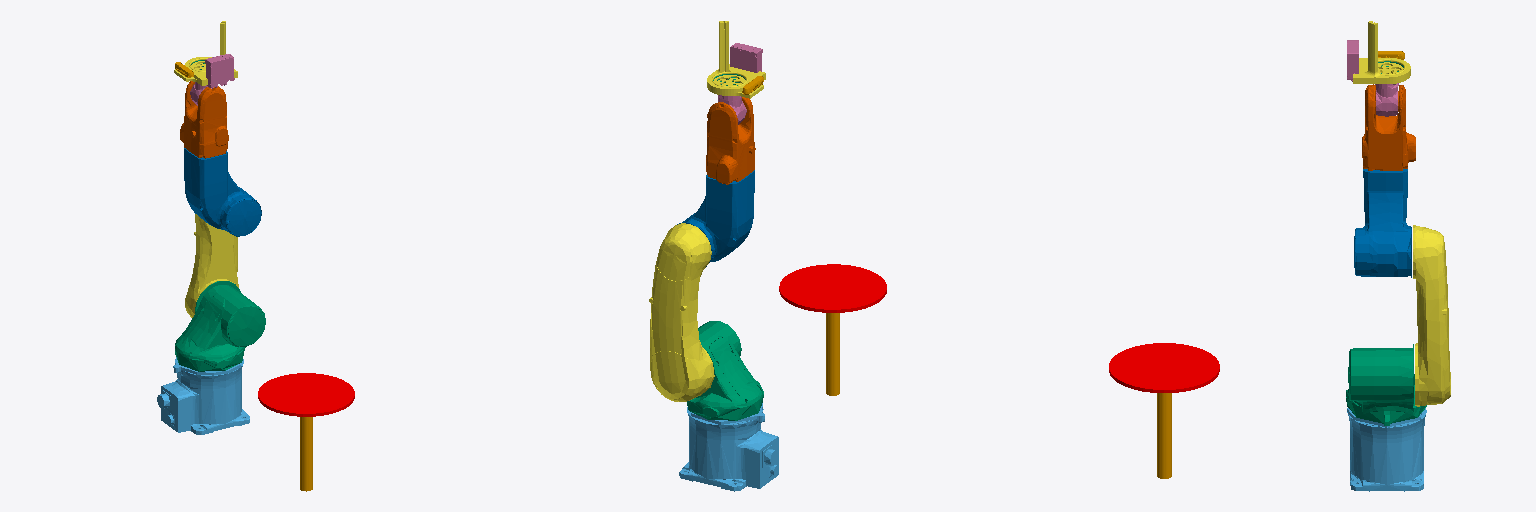
--- Facts derived from the render (not from the file) ---
Views: 3 orthographic renders of the robot side by side, from view 1: azimuth 30°, elevation 25°; view 2: azimuth 150°, elevation 25°; view 3: azimuth 270°, elevation 25°.
Robot: add_post_pro_robot — 25 links, 24 joints (7 revolute, 1 continuous, 1 prismatic, 15 fixed); root link world; default pose: all joints at 0.
Visible links, largest first — view 1: J1, base_link, J3, turntable_plate, J2, J4, turntable_base, EEF_scancontrol, EEF_sensor_holder; view 2: J2, base_link, J1, turntable_plate, J3, J4, EEF_sensor_holder, turntable_base, EEF_scancontrol; view 3: J2, J3, base_link, J1, turntable_plate, J4, EEF_sensor_holder, turntable_base, J5.
Boxes of the visible links, <box> form: J1: <box>175,281,265,371</box>; base_link: <box>157,357,249,434</box>; J3: <box>184,148,261,236</box>; turntable_plate: <box>258,373,354,416</box>; J2: <box>185,214,238,317</box>; J4: <box>180,81,228,158</box>; turntable_base: <box>300,417,312,491</box>; EEF_scancontrol: <box>205,54,234,88</box>; EEF_sensor_holder: <box>174,21,237,85</box>; J2: <box>649,223,714,401</box>; base_link: <box>679,403,778,491</box>; J1: <box>687,321,763,420</box>; turntable_plate: <box>779,264,886,312</box>; J3: <box>677,170,754,266</box>; J4: <box>706,97,755,184</box>; EEF_sensor_holder: <box>707,21,765,98</box>; turntable_base: <box>826,313,839,395</box>; EEF_scancontrol: <box>730,43,762,72</box>; J2: <box>1413,225,1450,406</box>; J3: <box>1354,169,1411,277</box>; base_link: <box>1347,408,1426,491</box>; J1: <box>1346,344,1426,425</box>; turntable_plate: <box>1109,343,1219,392</box>; J4: <box>1362,84,1415,170</box>; EEF_sensor_holder: <box>1353,21,1410,83</box>; turntable_base: <box>1157,393,1171,478</box>; J5: <box>1375,83,1398,116</box>.
Bounding box of the posed robot: 0.3298 × 0.9227 × 1.36 m (x, y, z).
11 mesh visuals loaded from 13 distinct referenced files (11 binary STL); not drawn: 2 (reference not matched to a file when rendering).

robot.urdf — add_post_pro_robot:
<?xml version="1.0" ?>
<!-- =================================================================================== -->
<!-- |    This document was autogenerated by xacro from [local-path]/zzzzz/python/compiled/coobra2050/test/catkin_ws_dep/src/add_post_pro2/add_post_pro_simulation/urdf/add_post_pro_robot.urdf.xacro | -->
<!-- |    EDITING THIS FILE BY HAND IS NOT RECOMMENDED                                 | -->
<!-- =================================================================================== -->
<!-- =================================================================================== -->
<!-- |    This document was autogenerated by xacro from [local-path]/Projects/AddPostPro/src/add_post_pro_robot/urdf/multisensor_robot.urdf.xacro | -->
<!-- |    EDITING THIS FILE BY HAND IS NOT RECOMMENDED                                 | -->
<!-- =================================================================================== -->
<robot name="add_post_pro_robot">
    <transmission name="trans_1">
        <type>transmission_interface/SimpleTransmission</type>
        <joint name="joint_1">
            <hardwareInterface>hardware_interface/PositionJointInterface</hardwareInterface>
        </joint>
        <actuator name="motor_1">
            <hardwareInterface>hardware_interface/PositionJointInterface</hardwareInterface>
            <mechanicalReduction>1</mechanicalReduction>
        </actuator>
    </transmission>
    <transmission name="trans_2">
        <type>transmission_interface/SimpleTransmission</type>
        <joint name="joint_2">
            <hardwareInterface>hardware_interface/PositionJointInterface</hardwareInterface>
        </joint>
        <actuator name="motor_2">
            <hardwareInterface>hardware_interface/PositionJointInterface</hardwareInterface>
            <mechanicalReduction>1</mechanicalReduction>
        </actuator>
    </transmission>
    <transmission name="trans_3">
        <type>transmission_interface/SimpleTransmission</type>
        <joint name="joint_3">
            <hardwareInterface>hardware_interface/PositionJointInterface</hardwareInterface>
        </joint>
        <actuator name="motor_3">
            <hardwareInterface>hardware_interface/PositionJointInterface</hardwareInterface>
            <mechanicalReduction>1</mechanicalReduction>
        </actuator>
    </transmission>
    <transmission name="trans_4">
        <type>transmission_interface/SimpleTransmission</type>
        <joint name="joint_4">
            <hardwareInterface>hardware_interface/PositionJointInterface</hardwareInterface>
        </joint>
        <actuator name="motor_4">
            <hardwareInterface>hardware_interface/PositionJointInterface</hardwareInterface>
            <mechanicalReduction>1</mechanicalReduction>
        </actuator>
    </transmission>
    <transmission name="trans_5">
        <type>transmission_interface/SimpleTransmission</type>
        <joint name="joint_5">
            <hardwareInterface>hardware_interface/PositionJointInterface</hardwareInterface>
        </joint>
        <actuator name="motor_5">
            <hardwareInterface>hardware_interface/PositionJointInterface</hardwareInterface>
            <mechanicalReduction>1</mechanicalReduction>
        </actuator>
    </transmission>
    <transmission name="trans_6">
        <type>transmission_interface/SimpleTransmission</type>
        <joint name="joint_6">
            <hardwareInterface>hardware_interface/PositionJointInterface</hardwareInterface>
        </joint>
        <actuator name="motor_6">
            <hardwareInterface>hardware_interface/PositionJointInterface</hardwareInterface>
            <mechanicalReduction>1</mechanicalReduction>
        </actuator>
    </transmission>
    <gazebo>
        <plugin filename="libgazebo_ros_control.so" name="gazebo_ros_control">
            <robotNamespace>/add_post_pro_robot</robotNamespace>
        </plugin>
    </gazebo>
    <link name="world" />
    <joint name="joint_w" type="fixed">
        <parent link="world" />
        <child link="base_link" />
        <origin xyz="0 0 0" />
    </joint>
    <link name="base_link">
        <visual>
            <origin rpy="0 0 0" xyz="0 0 0" />
            <geometry>
                <mesh filename="package://denso_robot_descriptions/vs6577_description/meshes/base_link.stl" scale="1 1 1" />
            </geometry>
        </visual>
        <collision>
            <origin rpy="0 0 0" xyz="0 0 0" />
            <geometry>
                <mesh filename="package://denso_robot_descriptions/vs6577_description/meshes/base_link.stl" scale="1 1 1" />
            </geometry>
        </collision>
        <inertial>
            <mass value="1" />
            <origin rpy="0.000000 0.000000 0.000000" xyz="0.000000 0.000000 0.000000" />
            <inertia ixx="1" ixy="0" ixz="0" iyy="1" iyz="0" izz="1" />
        </inertial>
    </link>
    <link name="J1">
        <visual>
            <origin rpy="0 0 0" xyz="0 0 0" />
            <geometry>
                <mesh filename="package://denso_robot_descriptions/vs6577_description/meshes/J1.stl" scale="1 1 1" />
            </geometry>
        </visual>
        <collision>
            <origin rpy="0 0 0" xyz="0 0 0" />
            <geometry>
                <mesh filename="package://denso_robot_descriptions/vs6577_description/meshes/J1.stl" scale="1 1 1" />
            </geometry>
        </collision>
        <inertial>
            <mass value="1" />
            <origin rpy="0.000000 0.000000 0.000000" xyz="0.000000 0.000000 0.000000" />
            <inertia ixx="1" ixy="0" ixz="0" iyy="1" iyz="0" izz="1" />
        </inertial>
    </link>
    <link name="J2">
        <visual>
            <origin rpy="0 0 0" xyz="0 0 0" />
            <geometry>
                <mesh filename="package://denso_robot_descriptions/vs6577_description/meshes/J2.stl" scale="1 1 1" />
            </geometry>
        </visual>
        <collision>
            <origin rpy="0 0 0" xyz="0 0 0" />
            <geometry>
                <mesh filename="package://denso_robot_descriptions/vs6577_description/meshes/J2.stl" scale="1 1 1" />
            </geometry>
        </collision>
        <inertial>
            <mass value="1" />
            <origin rpy="0.000000 0.000000 0.000000" xyz="0.000000 0.000000 0.000000" />
            <inertia ixx="1" ixy="0" ixz="0" iyy="1" iyz="0" izz="1" />
        </inertial>
    </link>
    <link name="J3">
        <visual>
            <origin rpy="0 0 0" xyz="0 0 0" />
            <geometry>
                <mesh filename="package://denso_robot_descriptions/vs6577_description/meshes/J3.stl" scale="1 1 1" />
            </geometry>
        </visual>
        <collision>
            <origin rpy="0 0 0" xyz="0 0 0" />
            <geometry>
                <mesh filename="package://denso_robot_descriptions/vs6577_description/meshes/J3.stl" scale="1 1 1" />
            </geometry>
        </collision>
        <inertial>
            <mass value="1" />
            <origin rpy="0.000000 0.000000 0.000000" xyz="0.000000 0.000000 0.000000" />
            <inertia ixx="1" ixy="0" ixz="0" iyy="1" iyz="0" izz="1" />
        </inertial>
    </link>
    <link name="J4">
        <visual>
            <origin rpy="0 0 0" xyz="0 0 0" />
            <geometry>
                <mesh filename="package://denso_robot_descriptions/vs6577_description/meshes/J4.stl" scale="1 1 1" />
            </geometry>
        </visual>
        <collision>
            <origin rpy="0 0 0" xyz="0 0 0" />
            <geometry>
                <mesh filename="package://denso_robot_descriptions/vs6577_description/meshes/J4.stl" scale="1 1 1" />
            </geometry>
        </collision>
        <inertial>
            <mass value="1" />
            <origin rpy="0.000000 0.000000 0.000000" xyz="0.000000 0.000000 0.000000" />
            <inertia ixx="1" ixy="0" ixz="0" iyy="1" iyz="0" izz="1" />
        </inertial>
    </link>
    <link name="J5">
        <visual>
            <origin rpy="0 0 0" xyz="0 0 0" />
            <geometry>
                <mesh filename="package://denso_robot_descriptions/vs6577_description/meshes/J5.stl" scale="1 1 1" />
            </geometry>
        </visual>
        <collision>
            <origin rpy="0 0 0" xyz="0 0 0" />
            <geometry>
                <mesh filename="package://denso_robot_descriptions/vs6577_description/meshes/J5.stl" scale="1 1 1" />
            </geometry>
        </collision>
        <inertial>
            <mass value="1" />
            <origin rpy="0.000000 0.000000 0.000000" xyz="0.000000 0.000000 0.000000" />
            <inertia ixx="1" ixy="0" ixz="0" iyy="1" iyz="0" izz="1" />
        </inertial>
    </link>
    <link name="J6">
        <visual>
            <origin rpy="0 0 0" xyz="0 0 0" />
            <geometry>
                <mesh filename="package://denso_robot_descriptions/vs6577_description/meshes/J6.stl" scale="1 1 1" />
            </geometry>
        </visual>
        <collision>
            <origin rpy="0 0 0" xyz="0 0 0" />
            <geometry>
                <mesh filename="package://denso_robot_descriptions/vs6577_description/meshes/J6.stl" scale="1 1 1" />
            </geometry>
        </collision>
        <inertial>
            <mass value="1" />
            <origin rpy="0.000000 0.000000 0.000000" xyz="0.000000 0.000000 0.000000" />
            <inertia ixx="1" ixy="0" ixz="0" iyy="1" iyz="0" izz="1" />
        </inertial>
    </link>
    <gazebo reference="base_link">
        <material>Gazebo/CoM</material>
    </gazebo>
    <gazebo reference="J1">
        <material>Gazebo/Gray</material>
    </gazebo>
    <gazebo reference="J2">
        <material>Gazebo/Gray</material>
    </gazebo>
    <gazebo reference="J3">
        <material>Gazebo/Gray</material>
    </gazebo>
    <gazebo reference="J4">
        <material>Gazebo/Gray</material>
    </gazebo>
    <gazebo reference="J5">
        <material>Gazebo/Gray</material>
    </gazebo>
    <gazebo reference="J6">
        <material>Gazebo/Gray</material>
    </gazebo>
    <gazebo reference="EEF_tool_mount">
        <material>Gazebo/CoM</material>
    </gazebo>
    <gazebo>
        <gravity>False</gravity>
    </gazebo>
    <joint name="joint_1" type="revolute">
        <parent link="base_link" />
        <child link="J1" />
        <origin rpy="0.000000 0.000000 0.000000" xyz="0.000000 0.000000 0.000000" />
        <axis xyz="-0.000000 -0.000000 1.000000" />
        <limit effort="100" lower="-2.96706" upper="2.96706" velocity="1" />
        <dynamics damping="0" friction="0" />
    </joint>
    <joint name="joint_2" type="revolute">
        <parent link="J1" />
        <child link="J2" />
        <origin rpy="0.000000 0.000000 0.000000" xyz="0.075000 0.000000 0.335000" />
        <axis xyz="-0.000000 1.000000 -0.000000" />
        <limit effort="100" lower="-1.745329" upper="2.356194" velocity="1" />
        <dynamics damping="0" friction="0" />
    </joint>
    <joint name="joint_3" type="revolute">
        <parent link="J2" />
        <child link="J3" />
        <origin rpy="0.000000 0.000000 0.000000" xyz="0.000000 0.000000 0.365000" />
        <axis xyz="-0.000000 1.000000 -0.000000" />
        <limit effort="100" lower="-2.076942" upper="2.949606" velocity="1" />
        <dynamics damping="0" friction="0" />
    </joint>
    <joint name="joint_4" type="revolute">
        <parent link="J3" />
        <child link="J4" />
        <origin rpy="0.000000 0.000000 0.000000" xyz="-0.090000 0.000000 -0.700000" />
        <axis xyz="-0.000000 -0.000000 1.000000" />
        <limit effort="100" lower="-3.316126" upper="3.316126" velocity="1" />
        <dynamics damping="0" friction="0" />
    </joint>
    <joint name="joint_5" type="revolute">
        <parent link="J4" />
        <child link="J5" />
        <origin rpy="0.000000 0.000000 0.000000" xyz="0.000000 0.000000 1.105000" />
        <axis xyz="-0.000000 1.000000 -0.000000" />
        <limit effort="100" lower="-2.094395" upper="2.094395" velocity="1" />
        <dynamics damping="0" friction="0" />
    </joint>
    <joint name="joint_6" type="revolute">
        <parent link="J5" />
        <child link="J6" />
        <origin rpy="0.000000 0.000000 0.000000" xyz="0.000000 0.000000 0.080000" />
        <axis xyz="-0.000000 -0.000000 1.000000" />
        <limit effort="100" lower="-6.283185" upper="6.283185" velocity="1" />
        <dynamics damping="0" friction="0" />
    </joint>
    <link name="turntable_base">
        <visual>
            <origin rpy="0 0 0" xyz="0 0 0" />
            <geometry>
                <cylinder length=".32" radius=".02" />
            </geometry>
        </visual>
        <collision>
            <origin rpy="0 0 0" xyz="0 0 0" />
            <geometry>
                <cylinder length=".32" radius=".02" />
            </geometry>
        </collision>
        <inertial>
            <origin rpy="0 0 0" xyz="0 0 0" />
            <mass value="1" />
            <inertia ixx="100" ixy="0" ixz="0" iyy="100" iyz="0" izz="100" />
        </inertial>
    </link>
    <link name="turntable_plate">
        <visual>
            <origin rpy="0 0 0" xyz="0 0 0" />
            <geometry>
                <cylinder length=".01" radius=".15" />
            </geometry>
            <material name="Red">
                <color rgba="1.0 0 0 1.0" />
            </material>
        </visual>
        <collision>
            <origin rpy="0 0 0" xyz="0 0 0" />
            <geometry>
                <cylinder length=".01" radius=".15" />
            </geometry>
        </collision>
        <inertial>
            <origin rpy="0 0 0" xyz="0 0 0" />
            <mass value="1" />
            <inertia ixx="100" ixy="0" ixz="0" iyy="100" iyz="0" izz="100" />
        </inertial>
    </link>
    <joint name="turntable_joint" type="fixed">
        <!-- <parent link="${parent}"/> -->
        <parent link="world" />
        <child link="turntable_base" />
        <origin rpy="0 0 0" xyz="0 -.6 0.16" />
        <!-- <origin rpy="0 0 0" xyz="0 0 0" /> -->
    </joint>
    <joint name="turntable_revolve_joint" type="continuous">
        <parent link="turntable_base" />
        <child link="turntable_plate" />
        <origin rpy="0.000000 0.000000 0.000000" xyz="0.000000 0.000000 .16" />
        <!-- <limit effort="1000.0" lower="-6.28" upper="6.28" velocity="0.5"/> -->
        <limit effort="1000.0" velocity="0.5" />
        <axis xyz="0 0 1" />
    </joint>
    <transmission name="trans_turntable_revolve_joint">
        <type>transmission_interface/SimpleTransmission</type>
        <joint name="turntable_revolve_joint">
            <hardwareInterface>hardware_interface/PositionJointInterface</hardwareInterface>
        </joint>
        <actuator name="turntable_revolve_joint_motor">
            <hardwareInterface>hardware_interface/PositionJointInterface</hardwareInterface>
            <mechanicalReduction>1</mechanicalReduction>
        </actuator>
    </transmission>
    <link name="EEF_tool_mount">
        <visual>
            <origin rpy="0.000000 0 0" xyz="0 0 0" />
            <geometry>
                <mesh filename="package://add_post_pro_robot/meshes/tool_mount.stl" scale=".001 .001 .001" />
            </geometry>
        </visual>
        <collision>
            <origin rpy="0.000000 0 0" xyz="0 0 0" />
            <geometry>
                <mesh filename="package://add_post_pro_robot/meshes/tool_mount.stl" scale=".001 .001 .001" />
            </geometry>
        </collision>
        <inertial>
            <mass value="1" />
            <origin rpy="0.000000 0.000000 0.000000" xyz="0.000000 0.000000 0.000000" />
            <inertia ixx="1" ixy="0" ixz="0" iyy="1" iyz="0" izz="1" />
        </inertial>
    </link>
    <link name="EEF_sensor_holder">
        <visual>
            <origin rpy="0 0 0" xyz="0 0 0" />
            <geometry>
                <mesh filename="package://add_post_pro_robot/meshes/multisensor_holder_origin.stl" scale=".001 .001 .001" />
            </geometry>
        </visual>
        <collision>
            <origin rpy="0 0 0" xyz="0 0 0" />
            <geometry>
                <mesh filename="package://add_post_pro_robot/meshes/multisensor_holder_origin.stl" scale=".001 .001 .001" />
            </geometry>
        </collision>
        <inertial>
            <mass value="1" />
            <origin rpy="0.000000 0.000000 0.000000" xyz="0.000000 0.000000 0.000000" />
            <inertia ixx="1" ixy="0" ixz="0" iyy="1" iyz="0" izz="1" />
        </inertial>
    </link>
    <link name="EEF_scanner" />
    <link name="EEF_depstech_camera" />
    <joint name="end_effector_mount" type="fixed">
        <parent link="J6" />
        <child link="EEF_tool_mount" />
        <origin rpy="0.000000 0.000000 0.000000" xyz="0.000000 0.000000 0.000000" />
    </joint>
    <joint name="EEF_wire_joint" type="revolute">
        <origin rpy="3.14 0 0" xyz="0.0 0 0.18" />
        <parent link="EEF_tool_mount" />
        <child link="gripper_link" />
        <axis xyz="0 0 1" />
        <limit effort="100" lower="-2.96706" upper="2.96706" velocity="3.92699081698724" />
        <dynamics damping="0" friction="0" />
    </joint>
    <link name="gripper_link">
        <inertial>
            <origin rpy="0 0 0" xyz="0.00141082792436611 0.0723032366847936 -8.43889581212869E-06" />
            <mass value="0.0799939176940473" />
            <inertia ixx="2.76844464280798E-05" ixy="-9.12624570478781E-07" ixz="-3.54399098618829E-09" iyy="2.41142132607001E-05" iyz="-1.50768187987084E-08" izz="2.86263235549508E-05" />
        </inertial>
        <visual>
            <origin rpy="0 0 0" xyz="0 0 0" />
            <geometry>
                <mesh filename="package://denso_robot_descriptions/vs6577_description/meshes/gripper_link.STL" />
            </geometry>
            <material name="">
                <color rgba="1 1 1 1" />
            </material>
        </visual>
        <collision>
            <origin rpy="0 0 0" xyz="0 0 0" />
            <geometry>
                <mesh filename="package://denso_robot_descriptions/vs6577_description/meshes/gripper_link.STL" />
            </geometry>
        </collision>
    </link>
    <link name="wire_link">
        <inertial>
            <origin rpy="0 0 0" xyz="-3.64651320699625E-09 0.145245333065823 4.7191528418343E-10" />
            <mass value="0.0460124601960045" />
            <inertia ixx="1.20903697059879E-05" ixy="3.35111235215526E-14" ixz="6.77959108035406E-13" iyy="2.20549410957124E-05" iyz="2.72380348556016E-14" izz="1.20855456355529E-05" />
        </inertial>
        <visual>
            <origin rpy="0 0 0" xyz="0 0 0" />
            <geometry>
                <mesh filename="package://denso_robot_descriptions/vs6577_description/meshes/wire_link_modified.stl" />
            </geometry>
            <material name="">
                <color rgba="0.792156862745098 0.819607843137255 0.933333333333333 1" />
            </material>
        </visual>
        <collision>
            <origin rpy="0 0 0" xyz="0 0 0" />
            <geometry>
                <mesh filename="package://denso_robot_descriptions/vs6577_description/meshes/wire_link_modified.stl" />
            </geometry>
        </collision>
    </link>
    <joint name="wire_joint" type="prismatic">
        <origin rpy="1.5707963267949 0 0" xyz="0 0 0" />
        <parent link="gripper_link" />
        <child link="wire_link" />
        <axis xyz="0 1 0" />
        <limit effort="1000.0" lower="-0.05" upper="0.0" velocity="0.5" />
    </joint>
    <joint name="end_effector_magnet" type="fixed">
        <parent link="J6" />
        <child link="EEF_sensor_holder" />
        <origin rpy="0.000000 0.000000 3.14159265359" xyz="0.000000 0.000000 0.000000" />
    </joint>
    <joint name="end_effector_scanner_holder" type="fixed">
        <parent link="EEF_sensor_holder" />
        <child link="EEF_scanner" />
        <origin rpy="0.000000 3.14159265359 1.57079632679" xyz="0.000000 0.091600 0.005500" />
    </joint>
    <joint name="end_effector_depstech_holder" type="fixed">
        <parent link="EEF_sensor_holder" />
        <child link="EEF_depstech_camera" />
        <origin rpy="0.392699081699 -0.785398163397 -0.795339912301" xyz="-0.042000 0.0353000 0.19000" />
    </joint>
    <!-- Camera link -->
    <link name="D415_camera">
        <visual>
            <origin rpy="1.57079632679 0 1.57079632679" xyz="0 0 0" />
            <geometry>
                <mesh filename="package://realsense_cam/meshes/simplified_d415.stl" />
            </geometry>
        </visual>
        <collision>
            <geometry>
                <box size="0.0078 0.130 0.0192" />
            </geometry>
        </collision>
        <inertial>
            <mass value="0.0615752" />
            <origin rpy="0 0 0" xyz="0 0 0" />
            <inertia ixx="9.108e-05" ixy="0" ixz="0" iyy="2.51e-06" iyz="0" izz="8.931e-05" />
        </inertial>
    </link>
    <!-- Connect camera to parent frame-->
    <joint name="realsense_joint" type="fixed">
        <parent link="EEF_sensor_holder" />
        <child link="D415_camera" />
        <origin rpy="0 -1.57079632679 3.14159265359" xyz=".075 0.001 .031" />
    </joint>
    <!-- Virtual links representing the cameras positons and orientations-->
    <link name="camera_for_ray_query" />
    <link name="D415_color_optical_frame" />
    <link name="D415_depth_optical_frame" />
    <link name="D415_ired1_optical_frame" />
    <link name="D415_ired2_optical_frame" />
    <!-- Joints positioning the virtual links with respect to the camera main link-->
    <joint name="ray_query_joint" type="fixed">
        <parent link="D415_camera" />
        <child link="camera_for_ray_query" />
        <!-- <origin xyz="0 -0.046 0.004" rpy="0 0 0"/> -->
        <!-- The default position is change since in Rviz the cloud depth axis is Z not X-->
        <origin rpy="1.57079632679 3.14159265359 1.57079632679" xyz="0 0 0 " />
    </joint>
    <joint name="color_joint" type="fixed">
        <parent link="D415_camera" />
        <child link="D415_color_optical_frame" />
        <!-- <origin xyz="0 -0.046 0.004" rpy="0 0 0"/> -->
        <!-- The default position is change since in Rviz the cloud depth axis is Z not X-->
        <origin rpy="1.57079632679 3.14159265359 1.57079632679" xyz="0 0 0 " />
    </joint>
    <joint name="depth_joint" type="fixed">
        <parent link="D415_camera" />
        <child link="D415_depth_optical_frame" />
        <origin rpy="0 0 0" xyz="0 0 0" />
    </joint>
    <joint name="ired1_joint" type="fixed">
        <parent link="D415_camera" />
        <child link="D415_ired1_optical_frame" />
        <origin rpy="0 0 0" xyz="0 0 0" />
    </joint>
    <joint name="ired2_joint" type="fixed">
        <parent link="D415_camera" />
        <child link="D415_ired2_optical_frame" />
        <origin rpy="0 0 0" xyz="0 -0.055 0" />
    </joint>
    <!-- **********************************************************-->
    <!-- GAZEBO DEFINITIONS ***************************************-->
    <!-- Load plugin to the model ("robot" in urdf format)-->
    <gazebo>
        <plugin filename="librealsense_gazebo_plugin.so" name="D415" />
        <!--<pose frame="">0 0 0.015 0 0 0</pose>-->
    </gazebo>
    <!-- Load parameters to model's main link-->
    <gazebo reference="D415_camera">
        <self_collide>0</self_collide>
        <enable_wind>0</enable_wind>
        <kinematic>0</kinematic>
        <gravity>1</gravity>
        <!--<mu>1</mu>-->
        <mu2>1</mu2>
        <fdir1>0 0 0</fdir1>
        <!--<slip1>0</slip1>
        <slip2>0</slip2>-->
        <kp>1e+13</kp>
        <kd>1</kd>
        <!--<max_vel>0.01</max_vel>
        <min_depth>0</min_depth>-->
        <sensor name="camera_for_ray_query" type="camera">
            <frameName>camera_for_ray_query</frameName>
            <pose frame="">0 0 0 0 0 0</pose>
            <camera name="D415_camera">
                <horizontal_fov>1.211259</horizontal_fov>
                <image>
                    <width>1280</width>
                    <height>720</height>
                    <format>R8G8B8</format>
                </image>
                <clip>
                    <near>0.1</near>
                    <far>100</far>
                </clip>
                <noise>
                    <type>gaussian</type>
                    <mean>0.0</mean>
                    <stddev>0.007</stddev>
                </noise>
            </camera>
            <plugin filename="libRayQuery.so" name="ray_query" />
            <always_on>1</always_on>
            <update_rate>30</update_rate>
            <visualize>1</visualize>
        </sensor>
        <sensor name="D415_color_optical_frame" type="camera">
            <frameName>D415_color_optical_frame</frameName>
            <pose frame="">0 0 0 0 0 0</pose>
            <camera name="D415_camera">
                <horizontal_fov>1.211259</horizontal_fov>
                <image>
                    <width>1280</width>
                    <height>720</height>
                    <format>RGB_INT8</format>
                </image>
                <clip>
                    <near>0.1</near>
                    <far>100</far>
                </clip>
                <noise>
                    <type>gaussian</type>
                    <mean>0.0</mean>
                    <stddev>0.007</stddev>
                </noise>
            </camera>
            <always_on>1</always_on>
            <update_rate>60</update_rate>
            <visualize>1</visualize>
        </sensor>
        <sensor name="D415_ired1_optical_frame" type="camera">
            <frameName>D415_ired1_optical_frame</frameName>
            <pose frame="">0 0 0 0 0 0</pose>
            <camera name="D415_camera">
                <horizontal_fov>1.047</horizontal_fov>
                <image>
                    <width>1280</width>
                    <height>720</height>
                    <format>L_INT8</format>
                </image>
                <clip>
                    <near>0.1</near>
                    <far>100</far>
                </clip>
                <noise>
                    <type>gaussian</type>
                    <mean>0.0</mean>
                    <stddev>0.05</stddev>
                </noise>
            </camera>
            <always_on>1</always_on>
            <update_rate>60</update_rate>
            <visualize>0</visualize>
        </sensor>
        <sensor name="D415_ired2_optical_frame" type="camera">
            <frameName>D415_ired2_optical_frame</frameName>
            <pose frame="">0 -0.055 0 0 0</pose>
            <camera name="D415_camera">
                <horizontal_fov>1.047</horizontal_fov>
                <image>
                    <width>1280</width>
                    <height>720</height>
                    <format>L_INT8</format>
                </image>
                <clip>
                    <near>0.1</near>
                    <far>100</far>
                </clip>
                <noise>
                    <type>gaussian</type>
                    <mean>0.0</mean>
                    <stddev>0.05</stddev>
                </noise>
            </camera>
            <always_on>1</always_on>
            <update_rate>60</update_rate>
            <visualize>0</visualize>
        </sensor>
        <sensor name="D415_depth_optical_frame" type="depth">
            <pose frame="">0 0 0 0 0 0</pose>
            <camera name="D415_camera">
                <frameName>D415_depth_optical_frame</frameName>
                <horizontal_fov>1.13446</horizontal_fov>
                <image>
                    <width>1280</width>
                    <height>720</height>
                </image>
                <clip>
                    <near>0.1</near>
                    <far>100</far>
                </clip>
                <noise>
                    <type>gaussian</type>
                    <mean>0.0</mean>
                    <stddev>0.100</stddev>
                </noise>
            </camera>
            <always_on>1</always_on>
            <update_rate>60</update_rate>
            <visualize>0</visualize>
        </sensor>
    </gazebo>
    <!-- DONE -->
    <!-- Scanner link -->
    <link name="EEF_scancontrol">
        <visual>
            <origin rpy="0 0 0" xyz="0 0 0" />
            <geometry>
                <mesh filename="package://add_post_pro_robot/meshes/scancontrol2900.stl" scale=".001 .001 .001" />
            </geometry>
        </visual>
        <collision>
            <origin rpy="0 0 0" xyz="0 0 0" />
            <geometry>
                <mesh filename="package://add_post_pro_robot/meshes/scancontrol2900_collision.stl" scale=".001 .001 .001" />
            </geometry>
        </collision>
        <inertial>
            <mass value="1" />
            <origin rpy="0.000000 0.000000 0.000000" xyz="0.000000 0.000000 0.000000" />
            <inertia ixx="1" ixy="0" ixz="0" iyy="1" iyz="0" izz="1" />
        </inertial>
    </link>
    <link name="scancontrol2900-50_laser" />
    <joint name="end_effector_scanner" type="fixed">
        <parent link="EEF_scanner" />
        <child link="EEF_scancontrol" />
        <origin rpy="0.000000 0.000000 0.000000" xyz="0.000000 0.000000 0.000000" />
    </joint>
    <joint name="laser_joint" type="fixed">
        <parent link="EEF_scancontrol" />
        <child link="scancontrol2900-50_laser" />
        <origin rpy="0 1.57079632679 -1.57079632679" xyz="0 -0.0324522 -.0761366" />
    </joint>
    <!-- <origin xyz="0 -0.0324522 -.0761366" rpy="${M_PI} ${M_PI/2} ${M_PI/2}"/> -->
    <gazebo reference="scancontrol2900-50_laser">
        <sensor name="scancontrol" type="gpu_ray">
            <pose>0 0 0 0 0 0</pose>
            <visualize>true</visualize>
            <update_rate>40</update_rate>
            <ray>
                <scan>
                    <horizontal>
                        <samples>1024</samples>
                        <resolution>1</resolution>
                        <min_angle>-0.392699081699</min_angle>
                        <max_angle>0.392699081699</max_angle>
                    </horizontal>
                </scan>
                <range>
                    <min>0.1</min>
                    <max>0.500</max>
                    <resolution>0.01</resolution>
                </range>
            </ray>
            <plugin filename="libgazebo_ros_gpu_laser.so" name="scancontrol_laser">
                <topicName>/arm/laser_scan</topicName>
                <frameName>scancontrol2900-50_laser</frameName>
            </plugin>
        </sensor>
    </gazebo>
    <link name="depstech_camera_link">
        <collision>
            <origin rpy="0 0 0" xyz="0 0 0" />
            <geometry>
                <cylinder length="0.02" radius="0.01" />
            </geometry>
        </collision>
        <inertial>
            <mass value="1e-5" />
            <origin rpy="0 0 0" xyz="0 0 0" />
            <inertia ixx="1e-6" ixy="0" ixz="0" iyy="1e-6" iyz="0" izz="1e-6" />
        </inertial>
    </link>
    <joint name="camera_link_joint" type="fixed">
        <parent link="EEF_depstech_camera" />
        <child link="depstech_camera_link" />
        <origin rpy="0.000000 0.000000 0.000000" xyz="0.000000 0.000000 0.000000" />
    </joint>
    <!-- camera -->
    <gazebo reference="depstech_camera_link">
        <sensor name="depstech_camera" type="camera">
            <update_rate>30.0</update_rate>
            <camera name="depstech_camera">
                <horizontal_fov>1.3962634</horizontal_fov>
                <image>
                    <width>800</width>
                    <height>800</height>
                    <format>R8G8B8</format>
                </image>
                <clip>
                    <near>0.02</near>
                    <far>300</far>
                </clip>
                <noise>
                    <type>gaussian</type>
                    <!-- Noise is sampled independently per pixel on each frame.
               That pixel's noise value is added to each of its color
               channels, which at that point lie in the range [0,1]. -->
                    <mean>0.0</mean>
                    <stddev>0.007</stddev>
                </noise>
            </camera>
            <plugin filename="libgazebo_ros_camera.so" name="camera_controller">
                <alwaysOn>true</alwaysOn>
                <updateRate>0.0</updateRate>
                <cameraName>depstech_camera/camera/</cameraName>
                <imageTopicName>image_raw</imageTopicName>
                <cameraInfoTopicName>camera_info</cameraInfoTopicName>
                <frameName>depstech_camera_link</frameName>
                <hackBaseline>0.07</hackBaseline>
                <distortionK1>0.0</distortionK1>
                <distortionK2>0.0</distortionK2>
                <distortionK3>0.0</distortionK3>
                <distortionT1>0.0</distortionT1>
                <distortionT2>0.0</distortionT2>
            </plugin>
        </sensor>
    </gazebo>
    <!-- END OF SCANCONTROL -->
    <gazebo reference="EEF_sensor_holder">
        <material>Gazebo/CoM</material>
    </gazebo>
    <gazebo reference="D415_camera">
        <material>Gazebo/CoM</material>
    </gazebo>
    <transmission name="trans_EEF_wire_joint">
        <type>transmission_interface/SimpleTransmission</type>
        <joint name="EEF_wire_joint">
            <hardwareInterface>hardware_interface/EffortJointInterface</hardwareInterface>
        </joint>
        <actuator name="EEF_wire_joint_motor">
            <hardwareInterface>hardware_interface/EffortJointInterface</hardwareInterface>
            <mechanicalReduction>1</mechanicalReduction>
        </actuator>
    </transmission>
    <transmission name="trans_wire_joint">
        <type>transmission_interface/SimpleTransmission</type>
        <joint name="wire_joint">
            <hardwareInterface>hardware_interface/EffortJointInterface</hardwareInterface>
        </joint>
        <actuator name="wire_joint_motor">
            <hardwareInterface>hardware_interface/EffortJointInterface</hardwareInterface>
            <mechanicalReduction>1</mechanicalReduction>
        </actuator>
    </transmission>
</robot>
